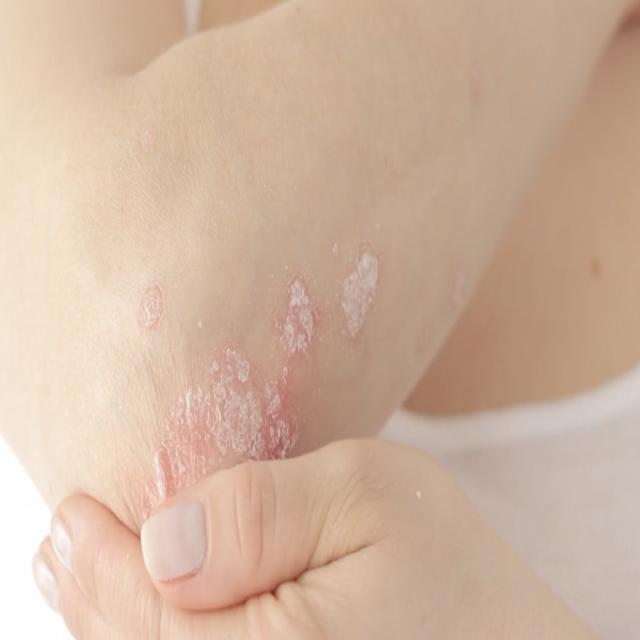Dry-Skin: (151, 380, 326, 452), (329, 253, 396, 348), (122, 285, 184, 345), (282, 285, 322, 364), (138, 462, 202, 492)
